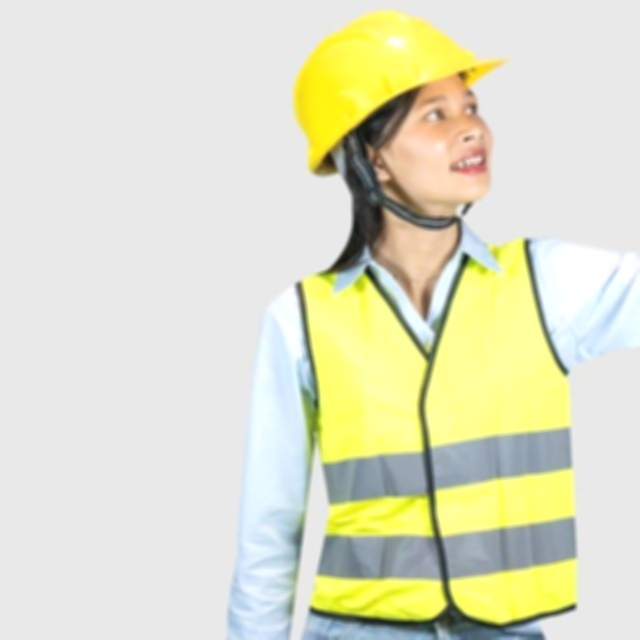Con_Casco: (294, 12, 506, 210)
Con_Chaleco: (296, 235, 584, 620)
